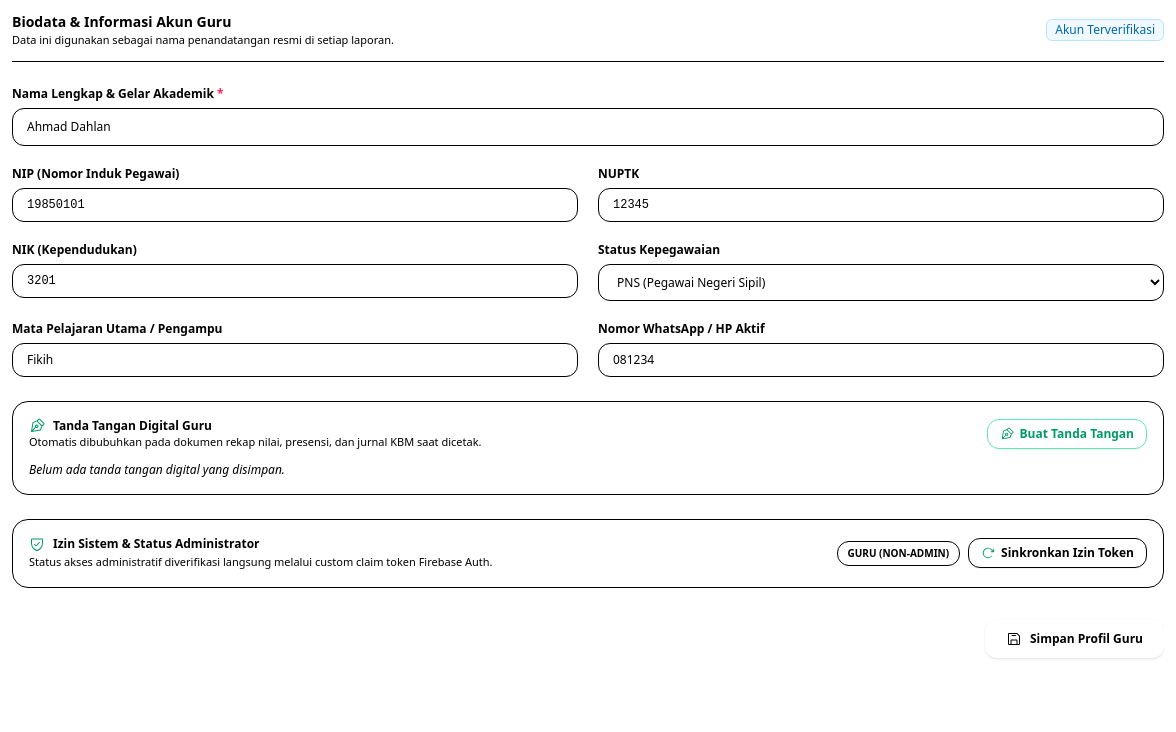
Test: ProfileTab Account Permissions & Claim Recovery Affordance › shows warning advice when claim is still not-admin on server
Click the button "Sinkronkan Izin Token".
click(1058, 553)  # box [968, 538, 1147, 568]
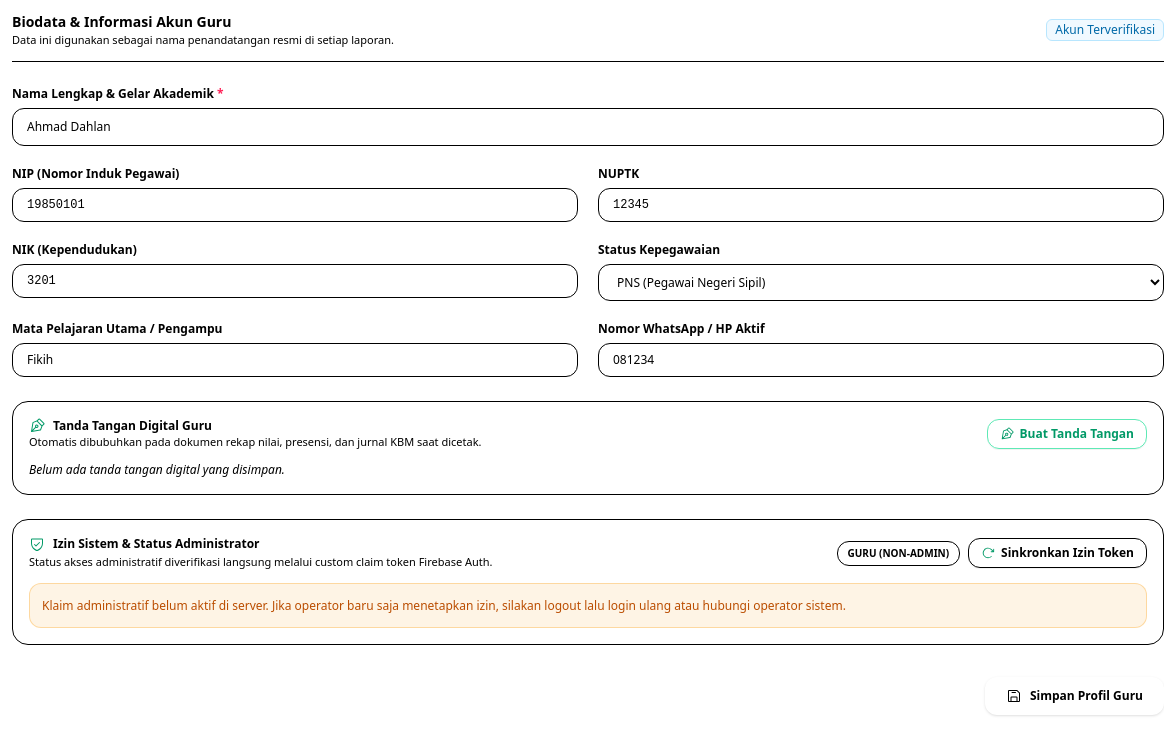
Expected: the text "Klaim administratif belum aktif di server. Jika operator baru saja menetapkan izin, silakan logout lalu login ulang atau" is shown, [42, 596, 846, 614]
